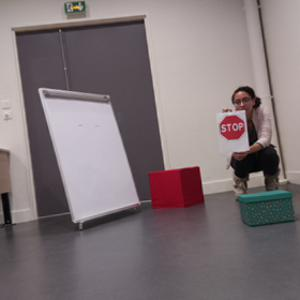stop: (218, 114, 246, 141)
